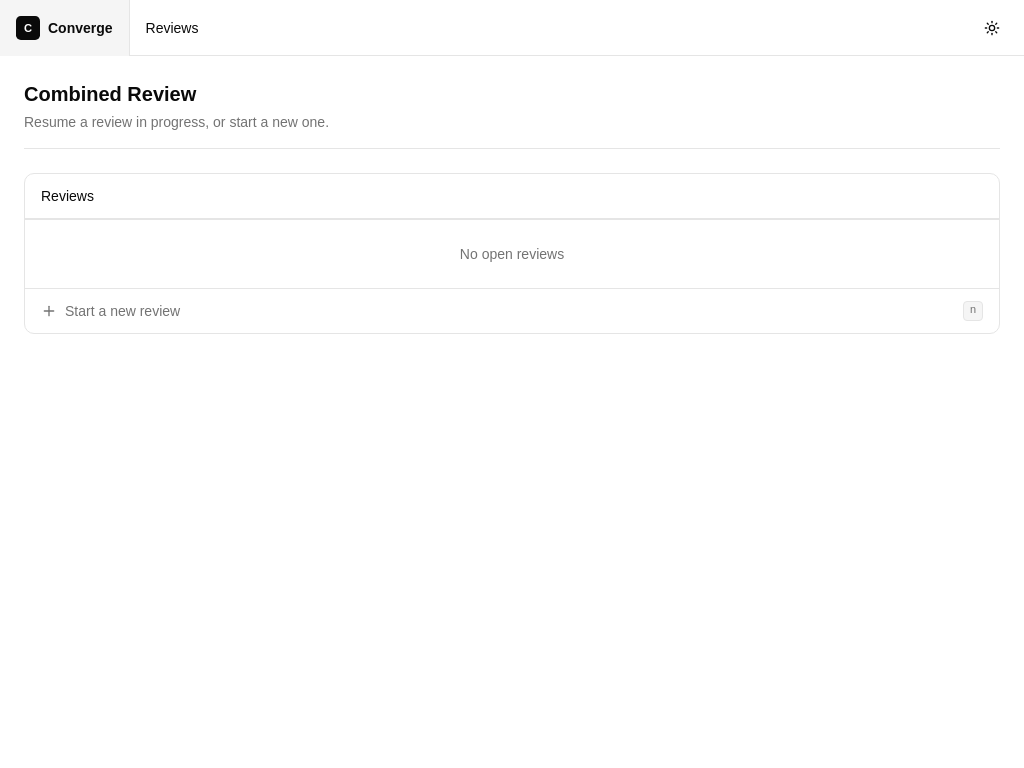
ReviewsPage › lists recent repositories first when the search is empty
Click the button "Start a new review n" at (123, 311), box [25,289,999,333]
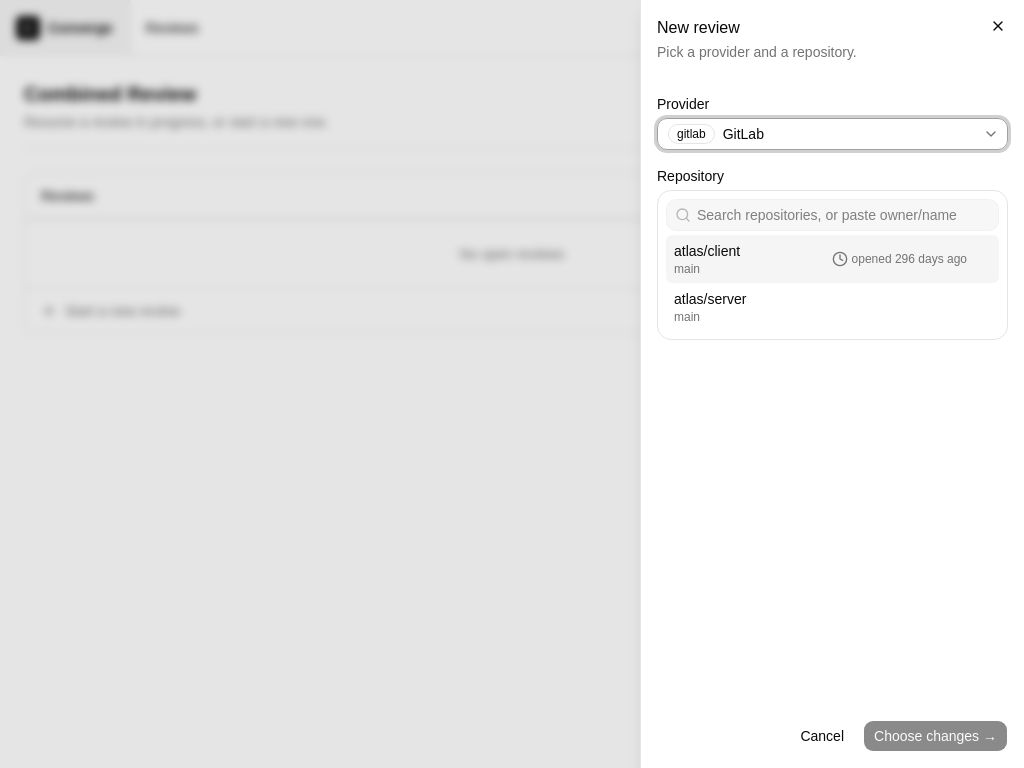
Check: the option "atlas/client main opened 296 days ago" is shown, box [666,235,999,283]
